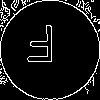F: (25, 25, 56, 71)
